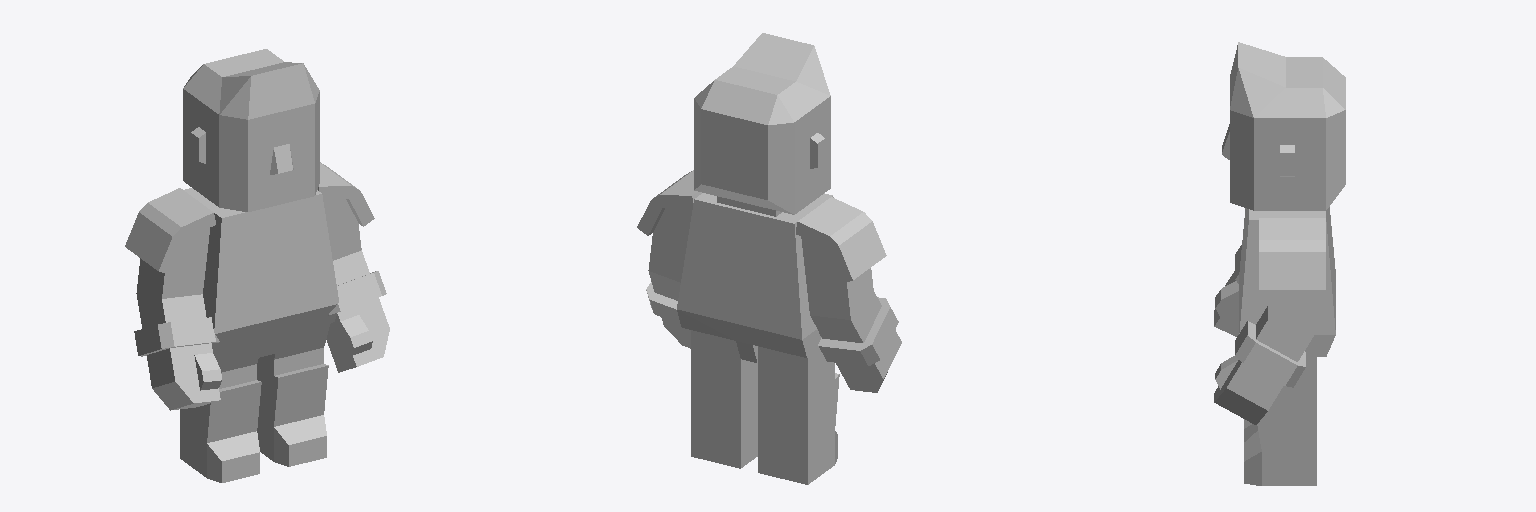
The model's file is my character.obj.
The picture shows the model from 3 angles: view 1: azimuth 30°, elevation 25°; view 2: azimuth 150°, elevation 25°; view 3: azimuth 270°, elevation 25°; orthographic projection.
Parts seen in each view (by area): view 1: mergedBlocks; view 2: mergedBlocks; view 3: mergedBlocks.
Part boxes in pixels (x1,y1,x2,y2): mergedBlocks: (125, 49, 389, 482); mergedBlocks: (637, 33, 901, 484); mergedBlocks: (1214, 42, 1345, 485).
Size of the model in its own units: 0.5504 by 0.9204 by 0.2716.